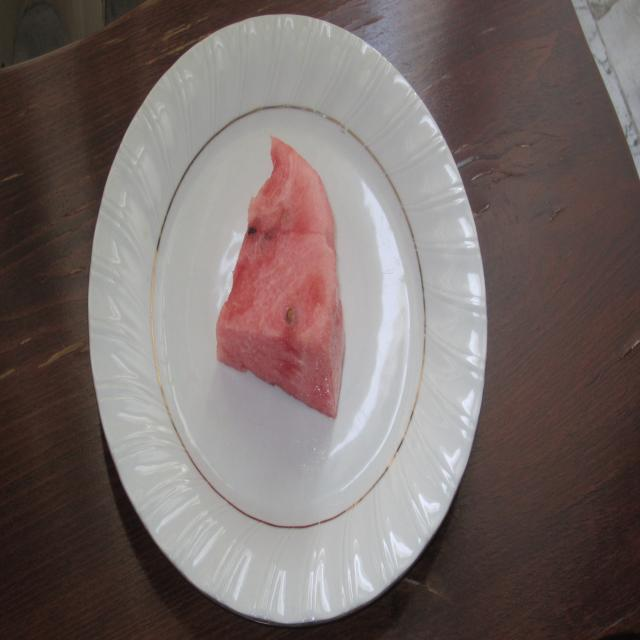Watermelon: (198, 118, 360, 442)
